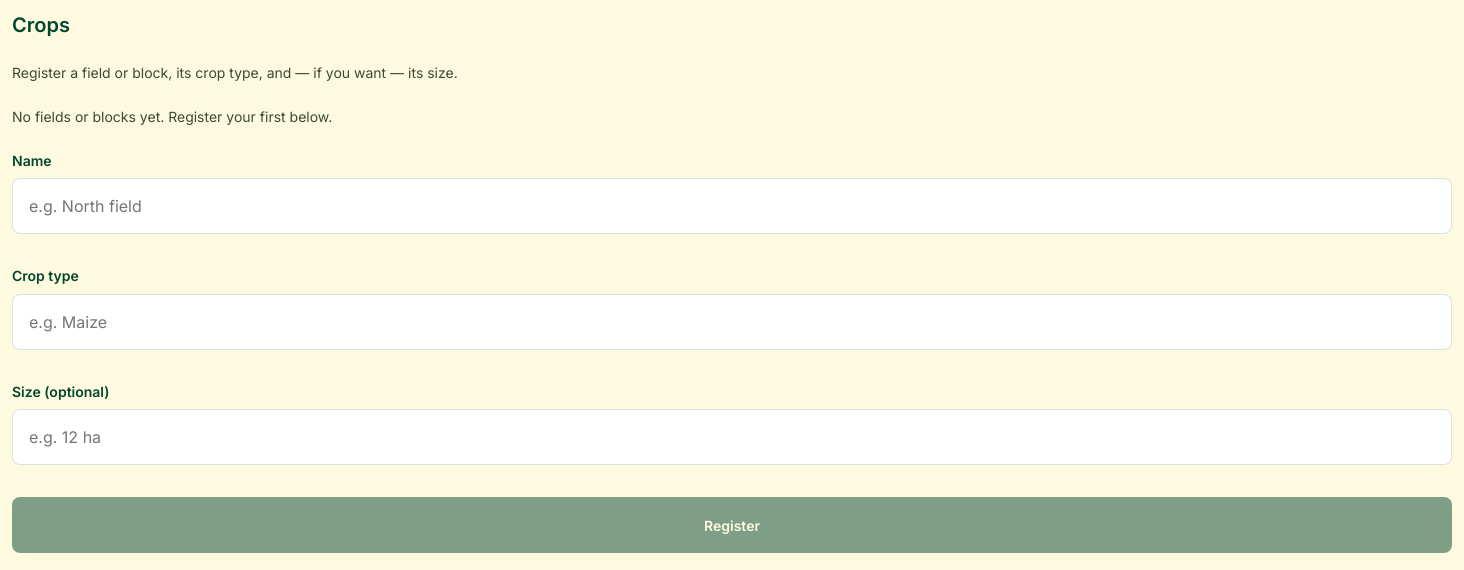
CropsScreen › disables the submit button until name and crop type are filled
This screenshot has width=1464, height=570.
Expected: the button "Register" is disabled, 12,497 -> 1452,553
Type "North field" into the field with test id "field-name-input" at {"x": 732, "y": 206}, box 12,178 -> 1452,234
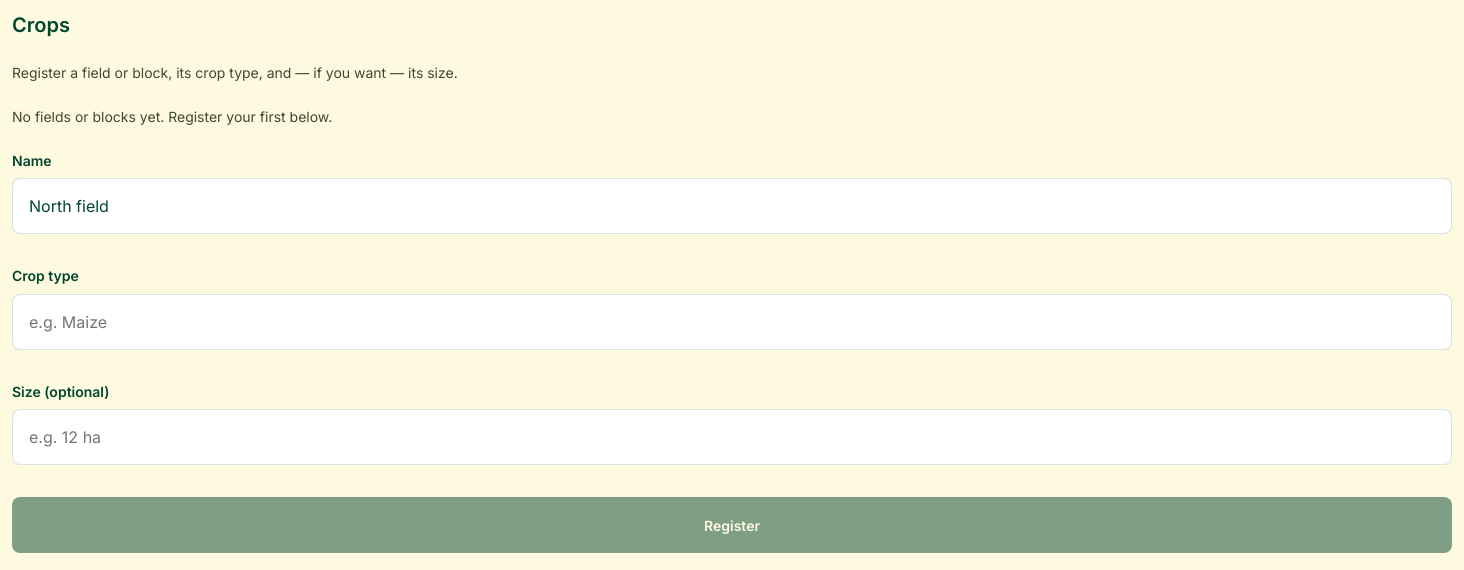
Expected: the button "Register" is disabled, 12,497 -> 1452,553
Type "Maize" into the field with test id "field-crop-input" at {"x": 732, "y": 322}, box 12,294 -> 1452,350
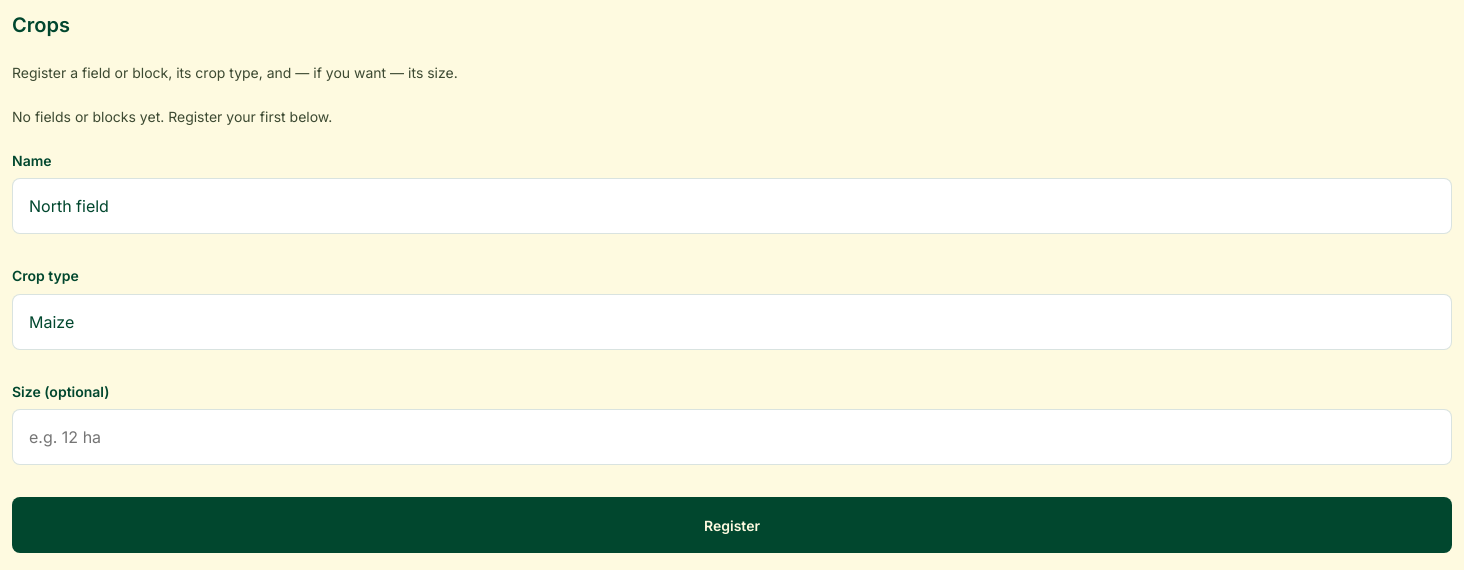
Expected: the button "Register" is enabled, 12,497 -> 1452,553
